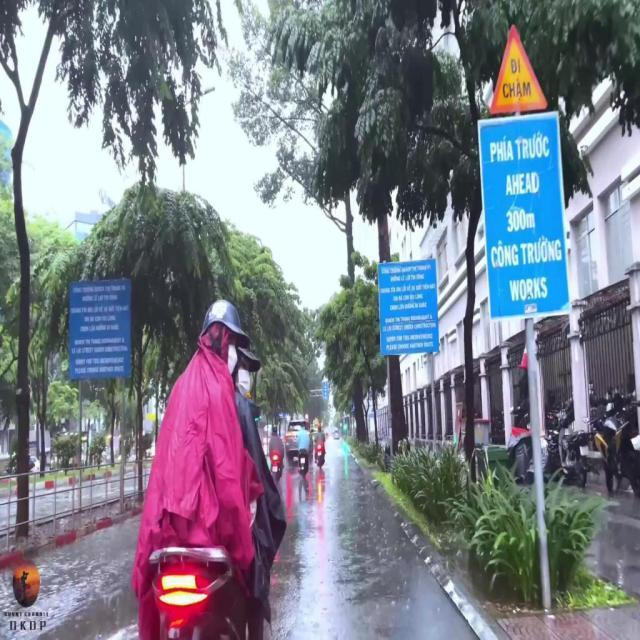245-di-cham: (488, 26, 548, 114)
